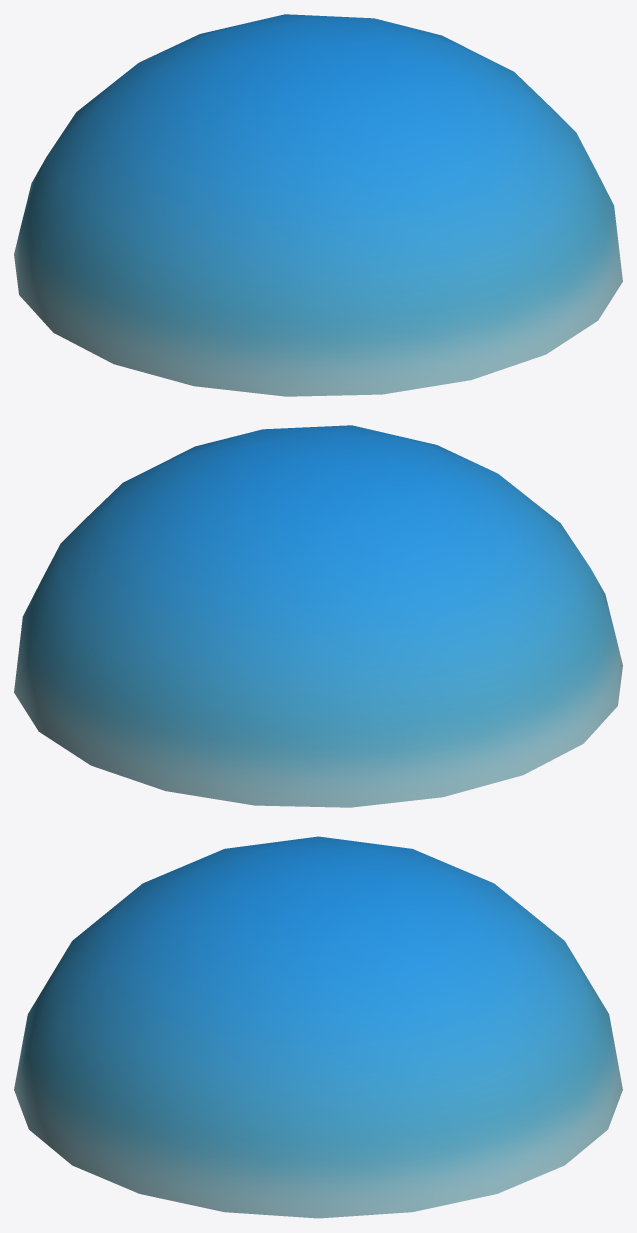
Rendered from skyBox.gltf.
3 views of the same model, one above another, from view 1: azimuth 30°, elevation 25°; view 2: azimuth 150°, elevation 25°; view 3: azimuth 270°, elevation 25° (orthographic).
Parts seen in each view (by area): view 1: SkyDome; view 2: SkyDome; view 3: SkyDome.
Boxes of the visible parts, x1,y1,x2,y2 form: SkyDome: (14,14,622,396); SkyDome: (14,425,622,807); SkyDome: (14,836,622,1218).
Bounding box in the file's own units: 659 × 262 × 659.
Materials: 2 (2 with a texture image).
